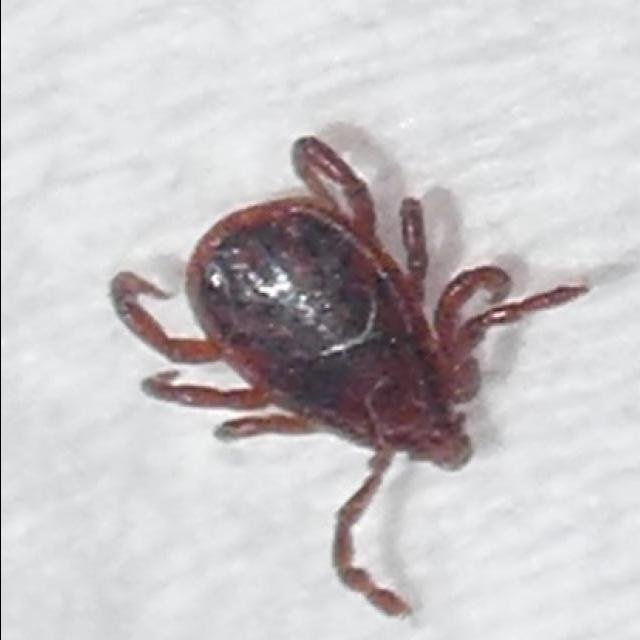Rhipicephalus Sanguineus-M: (107, 134, 586, 614)
